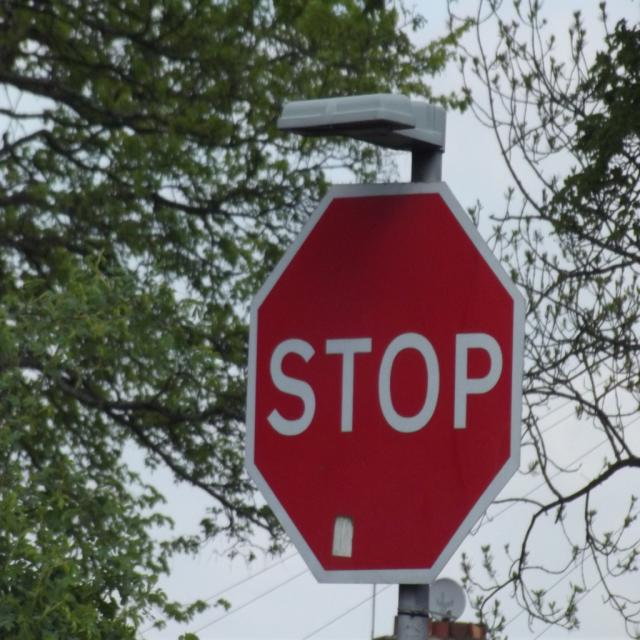Stop-sign: (244, 180, 526, 584)
